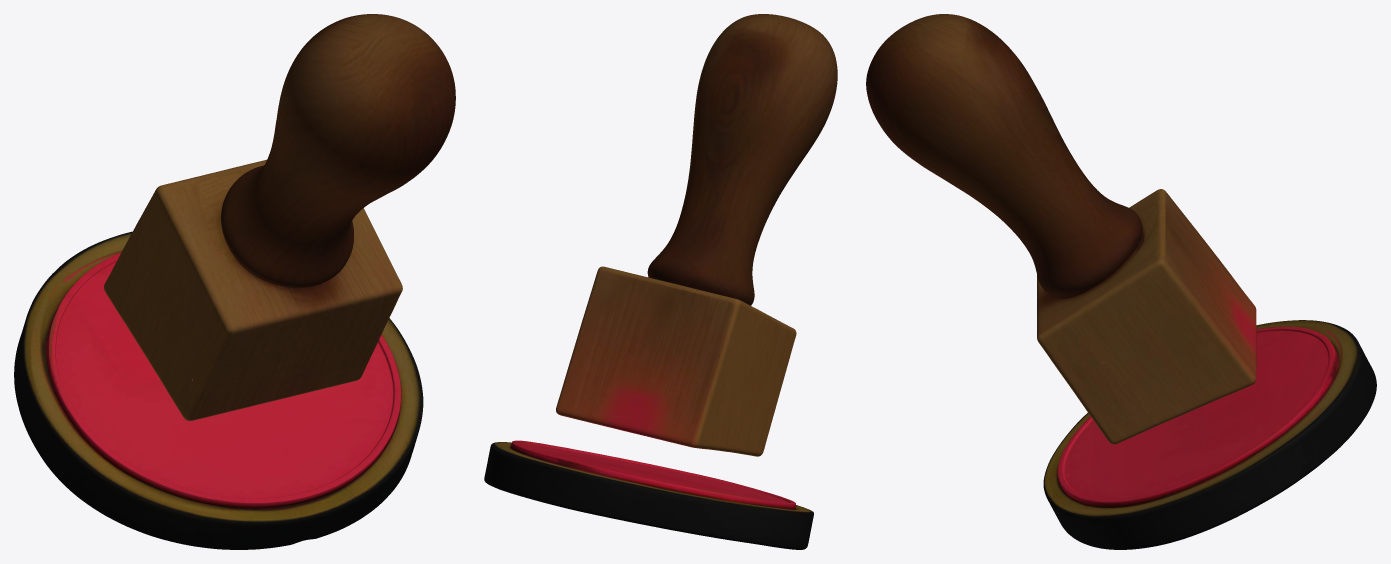
File: hankostamp.glb
3 renders of one model, left to right at view 1: azimuth 30°, elevation 25°; view 2: azimuth 150°, elevation 25°; view 3: azimuth 270°, elevation 25°, orthographic. The views are drawn at different scales.
Visible parts, largest first — view 1: material; view 2: material; view 3: material.
Part boxes in pixels (box(x1,y1,x2,y2)): material: box(14, 14, 455, 549); material: box(484, 14, 837, 549); material: box(866, 14, 1376, 549).
Bounding box in the file's own units: 0.6276 × 0.9543 × 0.9035.
Materials: 1 (1 with a texture image).
